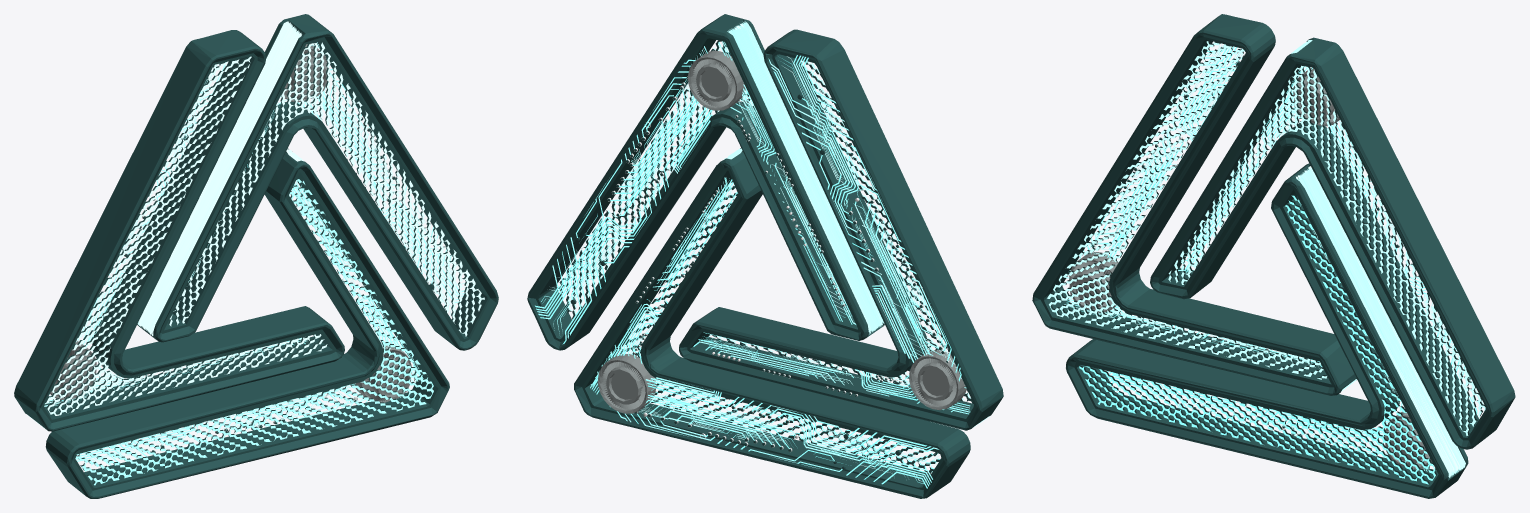
File: acre web background - small 2022.glb
3 renders of one model, left to right at view 1: azimuth 30°, elevation 25°; view 2: azimuth 150°, elevation 25°; view 3: azimuth 330°, elevation 25°, orthographic.
Parts seen in each view (by area): view 1: Boole.1 (×3), air vent 1 (×3), Boole (×3), Boole.2, circuits 1 (×3), tubofan3.2 (×3), small circuits 1.2 (×2); view 2: Boole.1 (×3), circuits 1 (×3), Boole (×3), tubofan3.2 (×3), small circuits 1.2 (×3), Boole.2, air vent 1 (×3); view 3: Boole.1 (×3), air vent 1 (×3), Boole (×3), Boole.2, circuits 1 (×3), tubofan3.2 (×3), small circuits 1.2 (×2).
Part boxes in pixels (x1,y1,x2,y2): Boole.1 (×3): (14, 14, 498, 498); air vent 1 (×3): (45, 42, 484, 485); Boole (×3): (45, 41, 483, 484); Boole.2: (137, 21, 301, 335); circuits 1 (×3): (75, 45, 465, 469); tubofan3.2 (×3): (50, 44, 411, 402); small circuits 1.2 (×2): (44, 180, 423, 406); Boole.1 (×3): (527, 14, 1003, 498); circuits 1 (×3): (535, 55, 961, 488); Boole (×3): (556, 40, 973, 473); tubofan3.2 (×3): (597, 50, 966, 413); small circuits 1.2 (×3): (590, 41, 970, 414); Boole.2: (727, 21, 884, 334); air vent 1 (×3): (558, 41, 970, 472); Boole.1 (×3): (1032, 14, 1515, 498); air vent 1 (×3): (1047, 41, 1484, 484); Boole (×3): (1051, 40, 1485, 483); Boole.2: (1296, 166, 1465, 477); circuits 1 (×3): (1078, 43, 1485, 457); tubofan3.2 (×3): (1069, 68, 1432, 469); small circuits 1.2 (×2): (1064, 66, 1322, 368).
Size of the model in its own units: 574 by 500 by 63.47.
